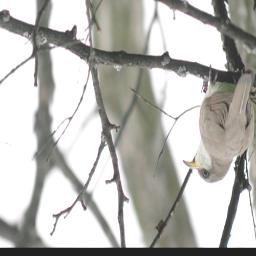Cuckoo: (183, 66, 256, 185)
